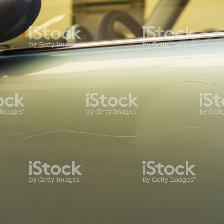scrach: (23, 121, 204, 145)
